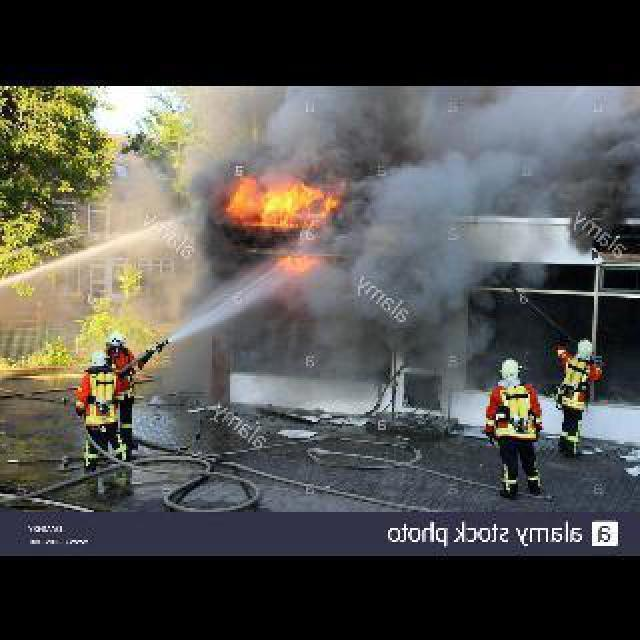Fire: (204, 170, 356, 264)
